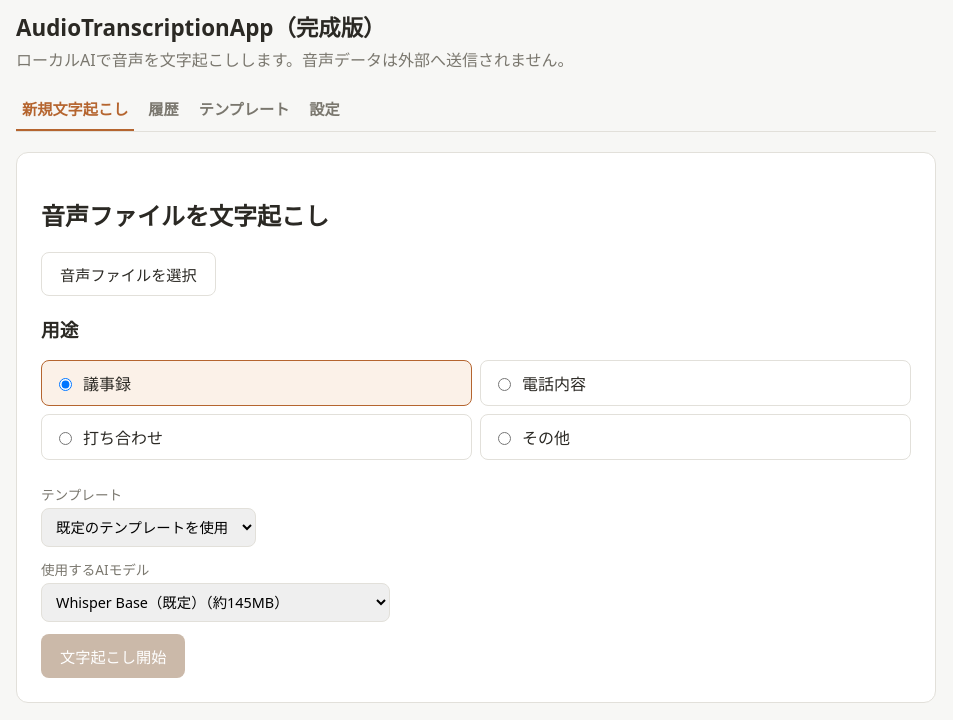
Test case: App（完成版 画面遷移） › テンプレートタブ: 一覧表示とインポート操作が行える
The image size is (953, 720).
Click the button with test id "nav-templates".
click(244, 109)  # box [193,87,295,131]
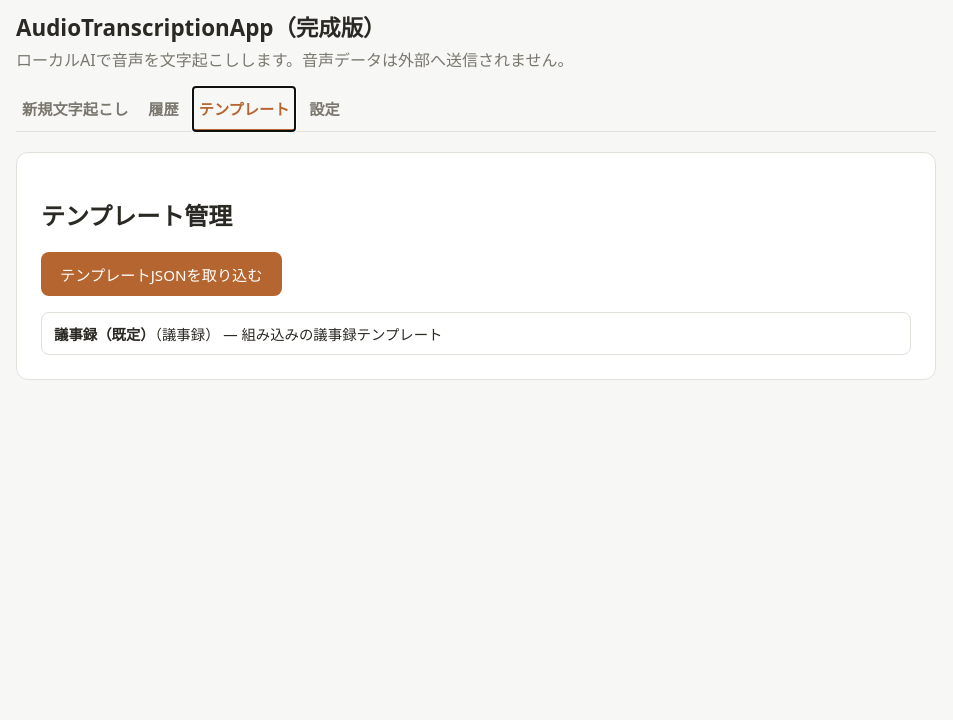
Check: the element with test id "template-list-item" is shown, box [41,312,911,355]
Check: the element with test id "template-list-item" shows "議事録（既定）", box [54,325,155,344]
Click the button "テンプレートJSONを取り込む".
click(161, 274)  # box [41,252,282,296]
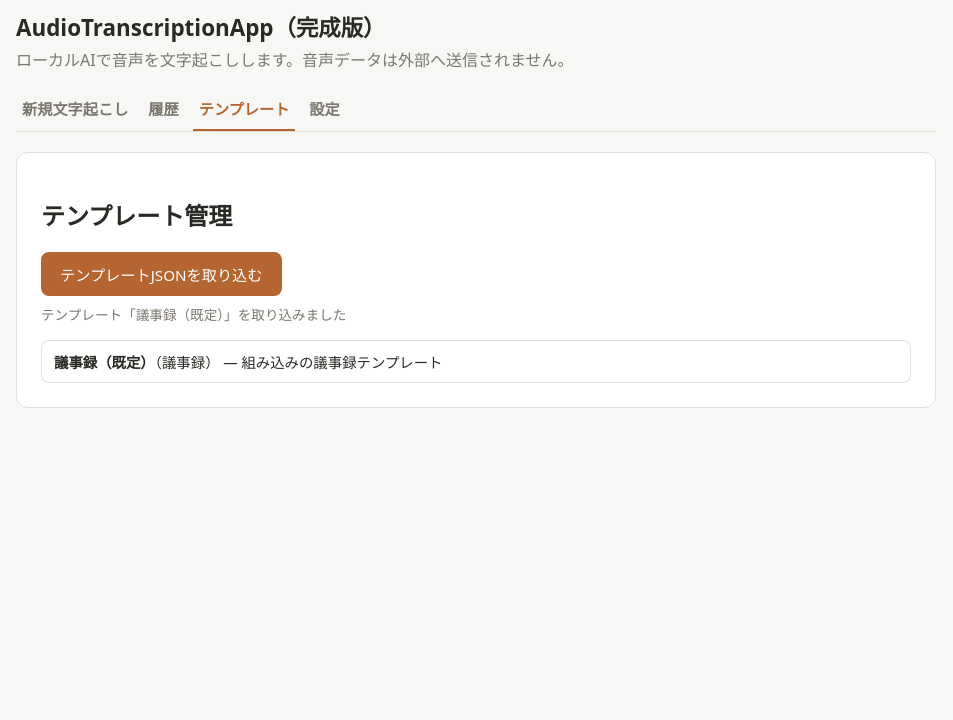
Check: the text with test id "templates-status-message" shows "取り込みました", box [41,305,346,324]
